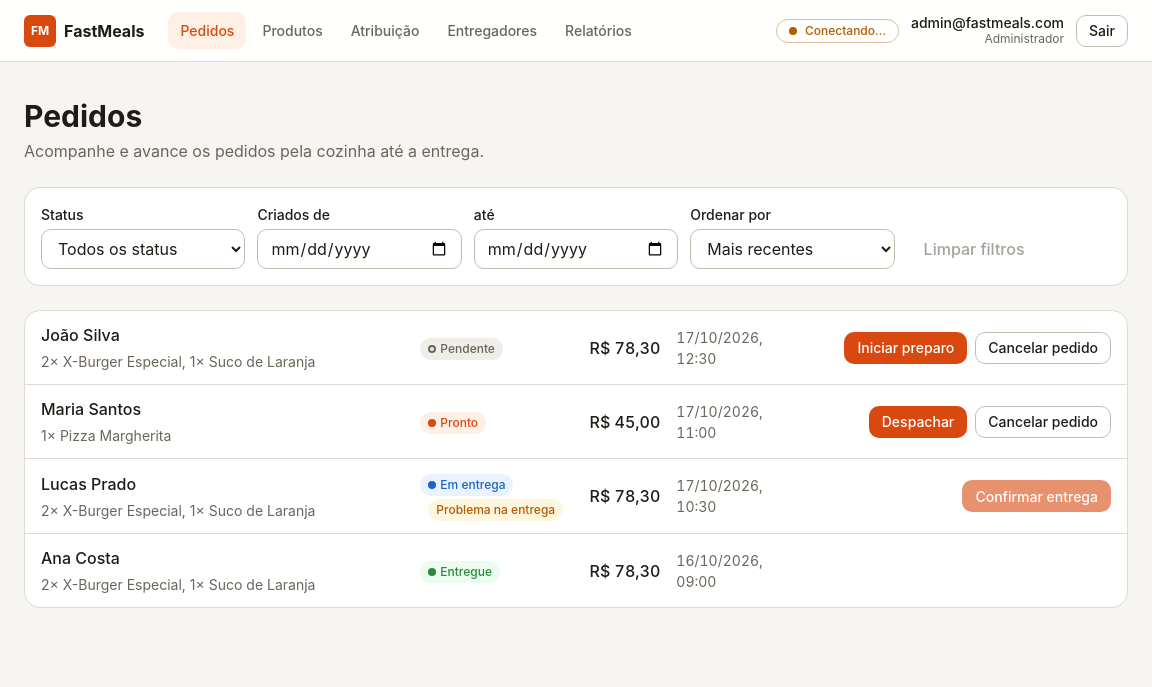
Test case: Painel de pedidos › entrega com problema relatado pelo entregador › aparece na lista com o selo e no detalhe com o motivo; "Tentar de novo" mantém a entrega
The width and height of the screenshot is (1152, 687).
Expected: the text "Problema na entrega" is shown, [428,499,563,521]
Click the button with aria-label "Ver detalhes do pedido de Lucas Prado". click: (89, 484)
box: [41,472,404,520]
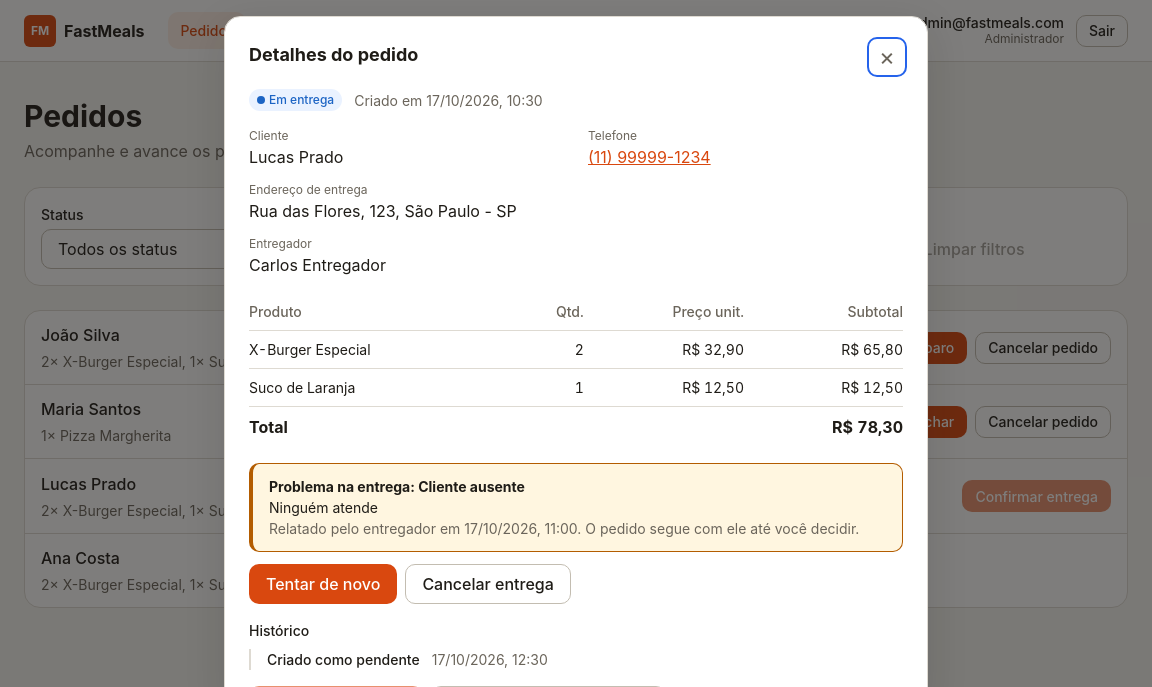
Result: the element named "Problemas na entrega" shows "Problema na entrega: Cliente ausente" at [269,478,525,495]
Result: the element named "Problemas na entrega" shows "Ninguém atende" at [269,499,378,516]
Click the button "Tentar de novo". click: (323, 584)
box: [249,564,397,604]
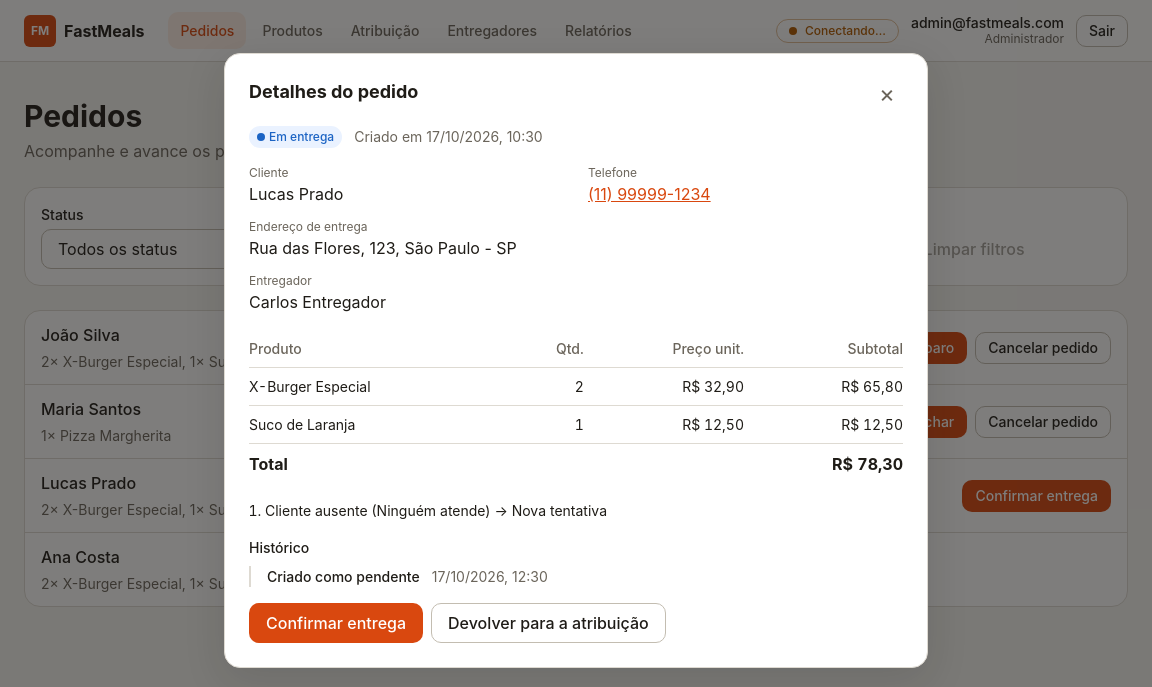
Result: the text "Problema na entrega: Cliente ausente" is gone
Result: the list named "Tentativas anteriores" reads "Cliente ausente (Ninguém atende) → Nova tentativa" at [265,502,607,518]
